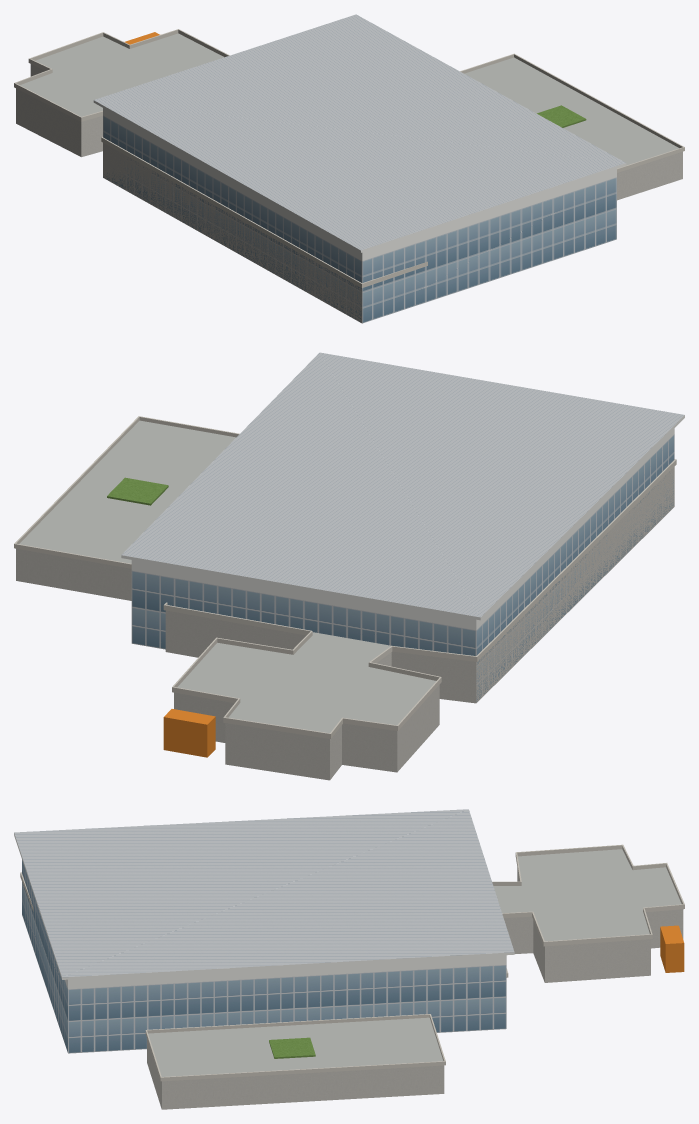
File: shuiyunfang.glb
3 renders of one model, top to bottom at view 1: azimuth 30°, elevation 25°; view 2: azimuth 150°, elevation 25°; view 3: azimuth 270°, elevation 25°, orthographic. The views are drawn at different scales.
Visible parts, largest first — view 1: 水云方; view 2: 水云方; view 3: 水云方.
Part boxes in pixels (left/top/right/bottom): 水云方: left=14, top=14, right=684, bottom=323; 水云方: left=14, top=352, right=684, bottom=780; 水云方: left=14, top=809, right=684, bottom=1109.
Bounding box in the file's own units: 76.29 × 12.6 × 96.5.
Materials: 8 (4 with a texture image).
